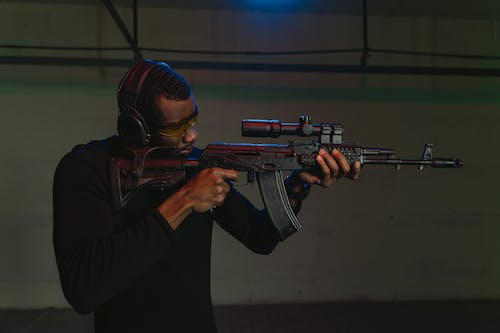gun: (107, 114, 466, 244)
